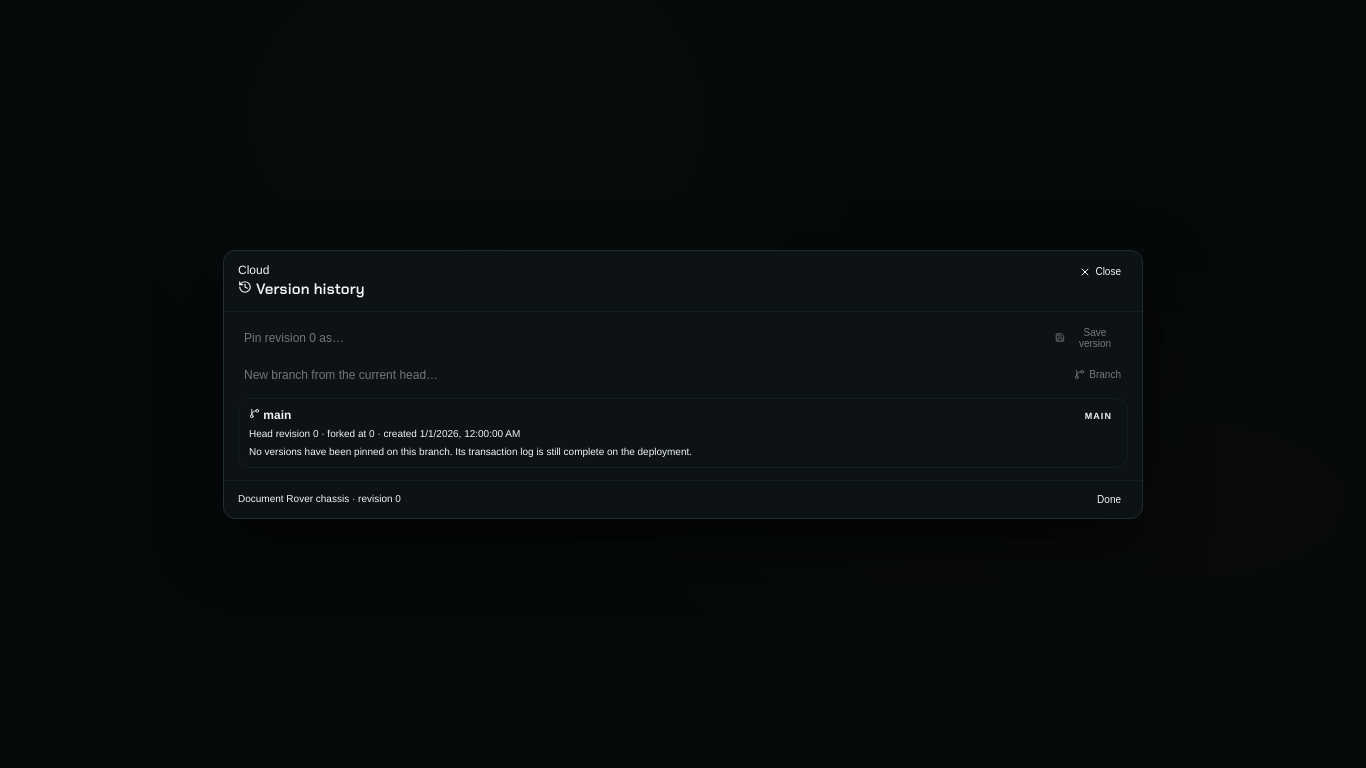
Test case: Version history — the happy path › creates a named branch from the current head
Expected: the element named "Branch main" is shown, [238, 398, 1128, 468]
Type "wider-chassis" into the field named "Name for a new branch".
click(651, 374); type("wider-chassis")  # box [238, 364, 1063, 386]
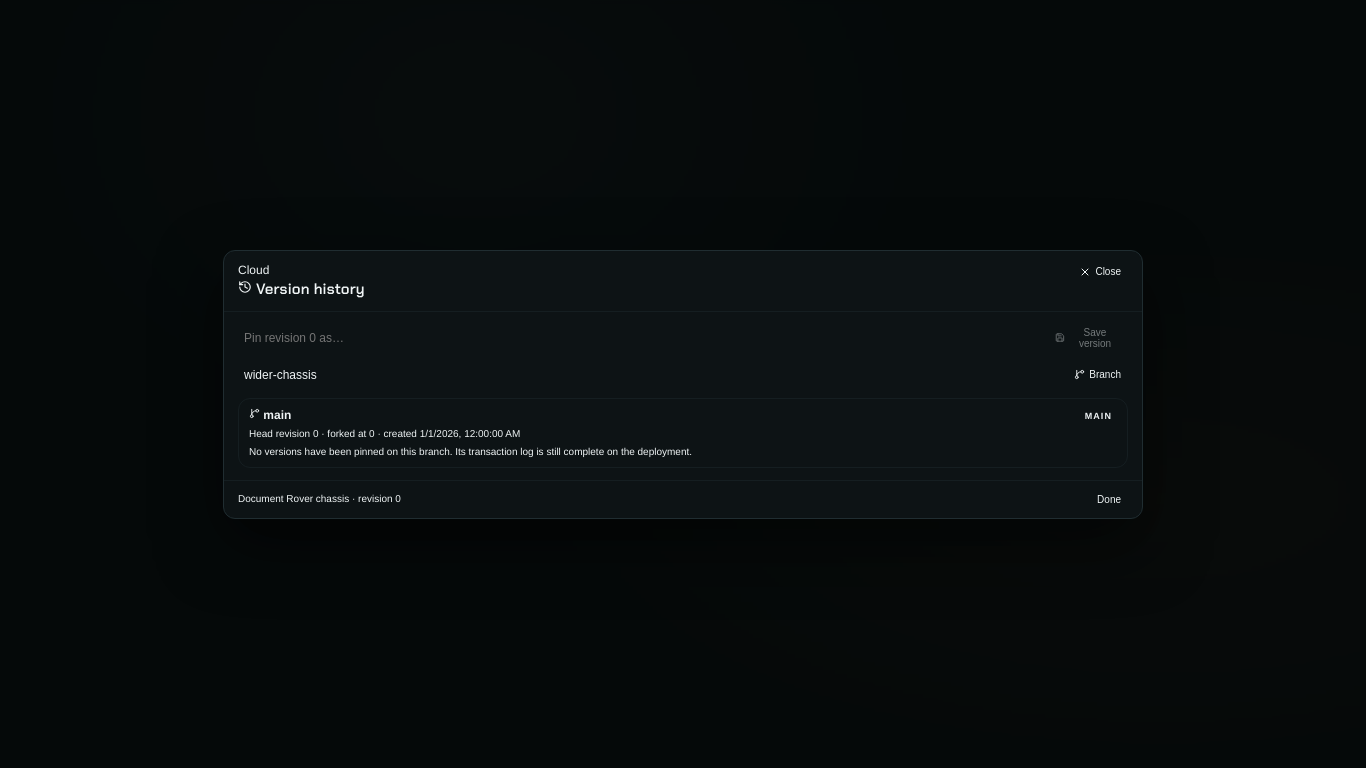
Click the button "Branch".
click(1098, 374)  # box [1067, 366, 1128, 383]
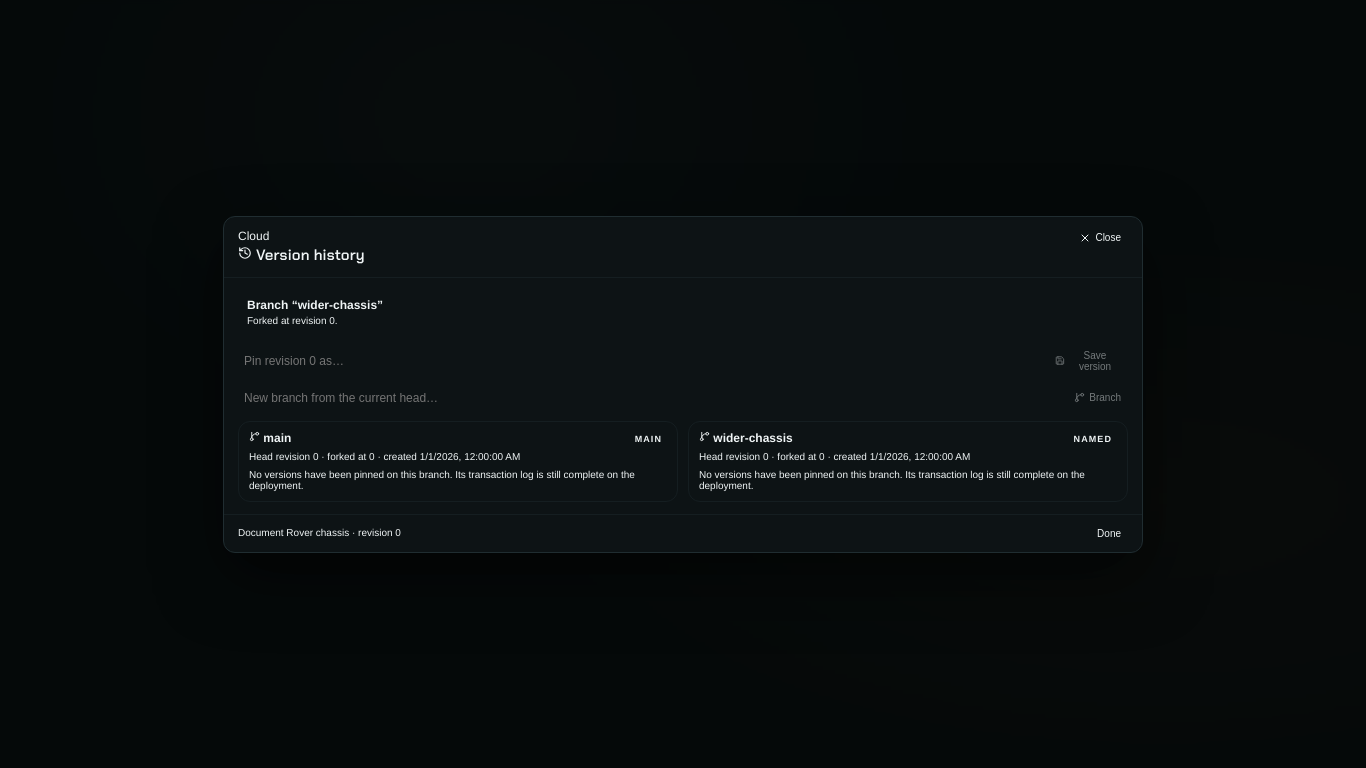
Now the text "Branch “wider-chassis”" is shown, box [247, 298, 383, 312]
